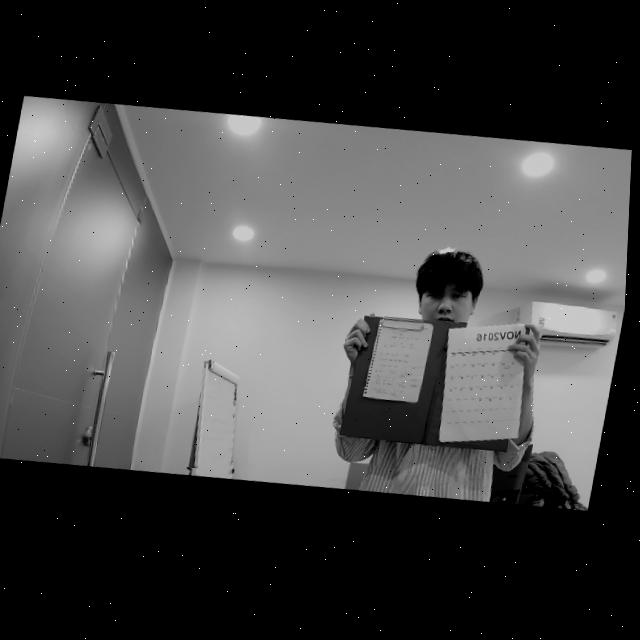document: (438, 323, 525, 442), (362, 319, 434, 403)
face: (404, 254, 484, 327)
